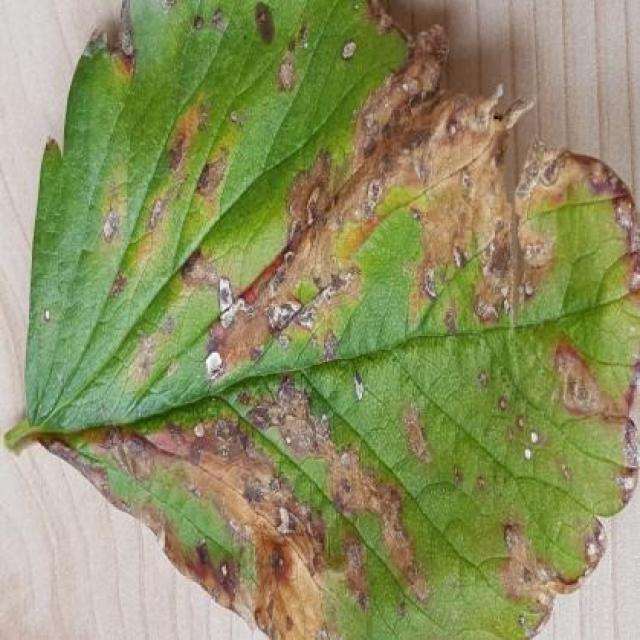Angular Leafspot: (25, 0, 638, 638)
